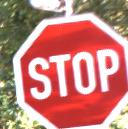Stop sign: (0, 0, 127, 128)
